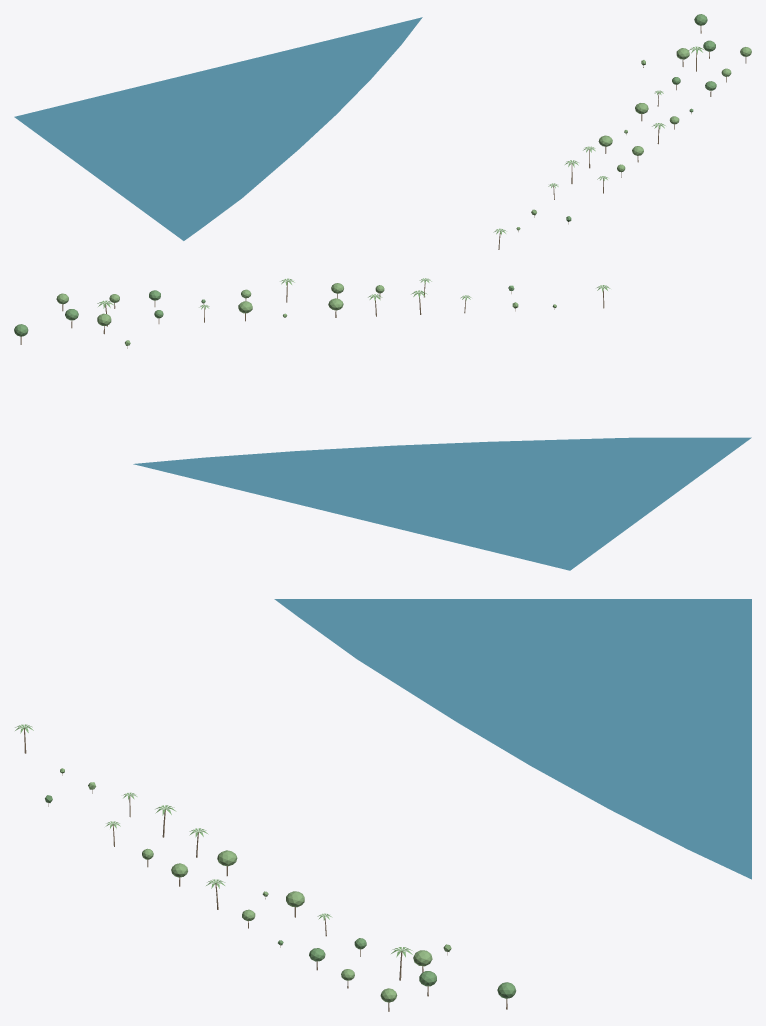
The model's file is nature_2_7.glb.
3 renders of one model, top to bottom at view 1: azimuth 30°, elevation 25°; view 2: azimuth 150°, elevation 25°; view 3: azimuth 270°, elevation 25°, orthographic. The views are drawn at different scales.
Visible parts, largest first — view 1: water, foliage_b, foliage_a; view 2: water, foliage_b, foliage_a; view 3: water, foliage_b, foliage_a.
Boxes of the visible parts, <box> form: water: <box>14,17,422,240</box>; foliage_b: <box>516,47,751,230</box>; foliage_a: <box>566,14,716,221</box>; water: <box>133,437,751,570</box>; foliage_b: <box>56,283,556,345</box>; foliage_a: <box>14,285,514,336</box>; water: <box>274,599,751,879</box>; foliage_b: <box>60,768,451,1002</box>; foliage_a: <box>45,795,516,998</box>.
Size of the model in its own units: 252 by 9.19 by 188.
